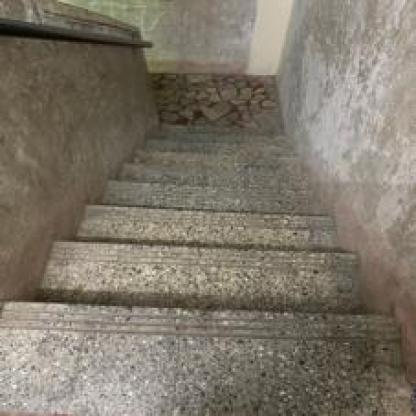stair_down: (20, 190, 385, 341)
